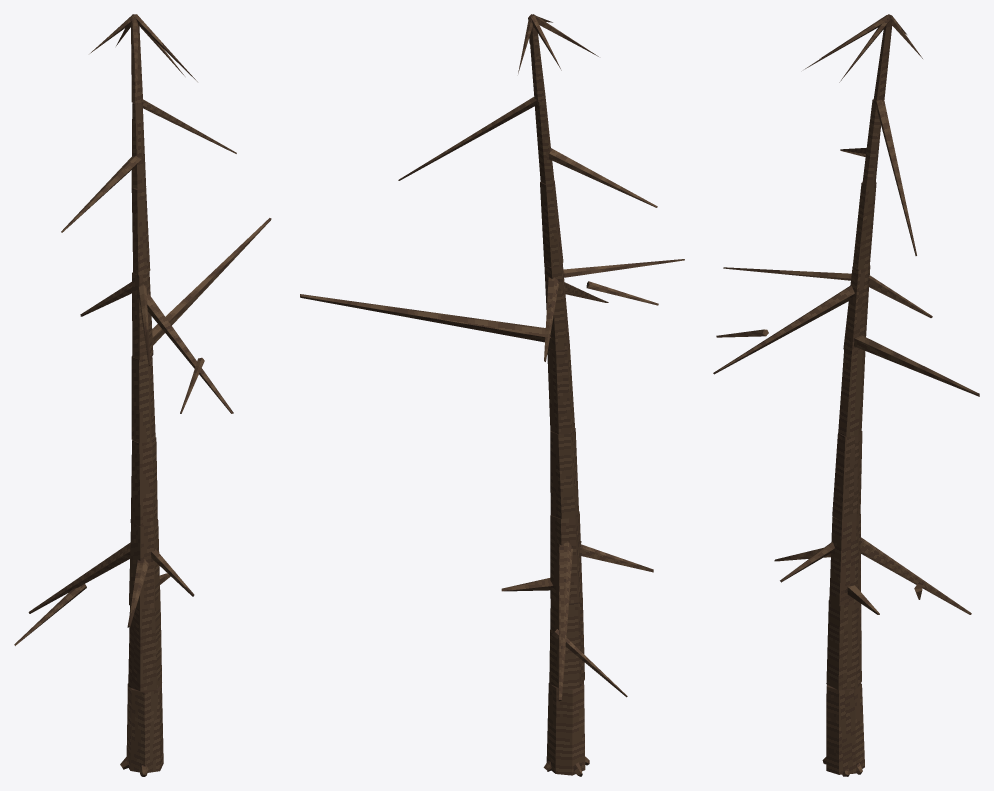
The model's file is snag_08_godot.glb.
3 views of the same model, side by side, from view 1: azimuth 30°, elevation 25°; view 2: azimuth 150°, elevation 25°; view 3: azimuth 270°, elevation 25° (orthographic). The views are drawn at different scales.
Visible parts, largest first — view 1: snag_08; view 2: snag_08; view 3: snag_08.
Part boxes in pixels (x1,y1,x2,y2): snag_08: (14, 14, 271, 776); snag_08: (300, 14, 684, 776); snag_08: (713, 14, 979, 776).
Size of what is drawn, in the model's own units: 2.78 by 6.85 by 2.17.
Materials: 1 (1 with a texture image).
